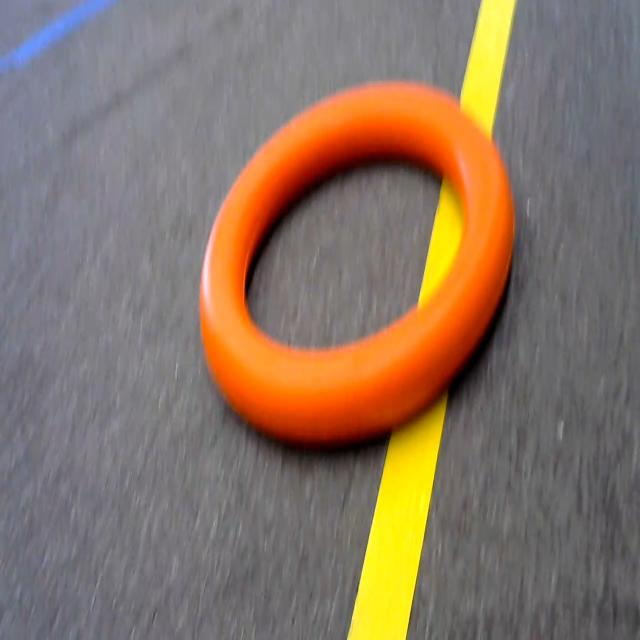note: (186, 66, 554, 472)
